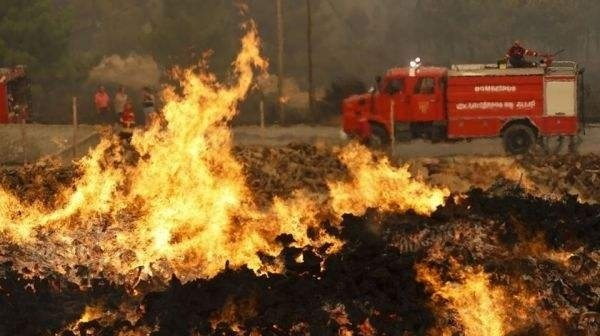fire: (0, 23, 459, 326)
